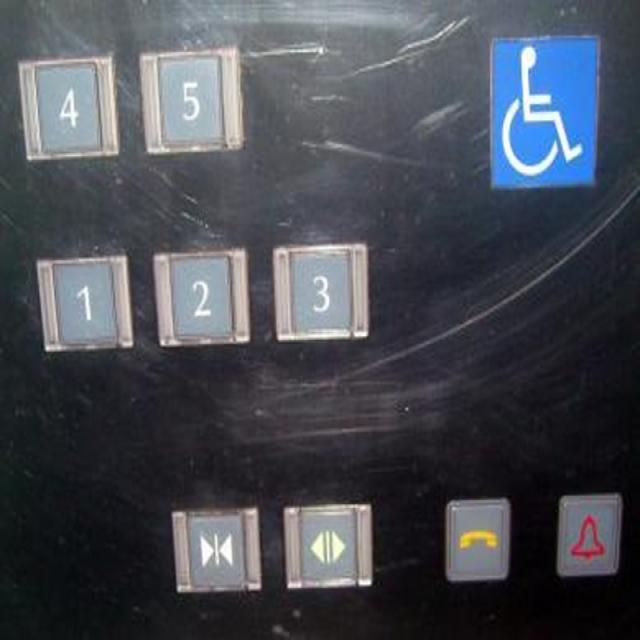1: (32, 250, 134, 354)
2: (150, 242, 250, 350)
3: (270, 239, 370, 341)
4: (15, 51, 119, 165)
5: (137, 44, 246, 160)
CH: (489, 33, 599, 187)
alarm: (556, 488, 620, 576)
call: (443, 495, 509, 581)
close: (168, 503, 266, 593)
open: (282, 499, 374, 588)
